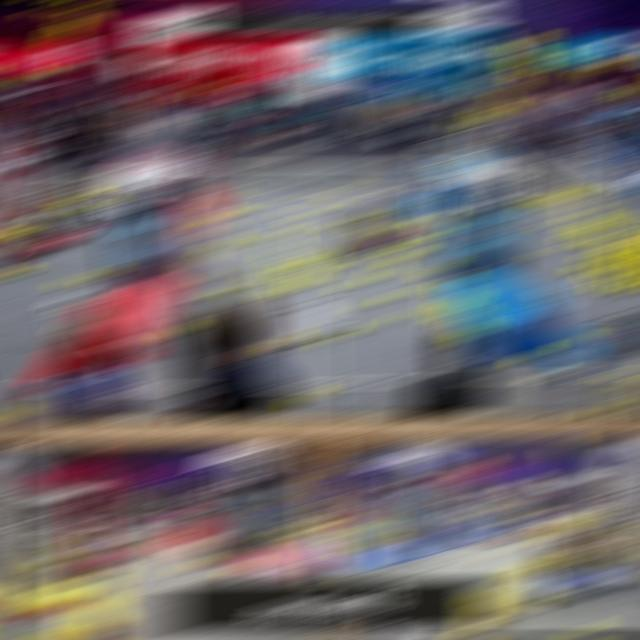ball_airborne: (549, 443, 579, 458), (539, 57, 566, 66), (456, 144, 484, 152), (591, 65, 618, 73), (462, 466, 488, 473), (50, 30, 76, 37), (485, 108, 510, 115), (62, 16, 87, 23), (619, 85, 640, 93), (498, 88, 524, 94), (518, 68, 544, 74), (22, 74, 48, 80), (472, 116, 497, 122), (69, 20, 94, 26), (53, 22, 78, 28), (478, 104, 502, 110), (8, 74, 34, 79), (72, 6, 100, 10), (28, 7, 55, 11), (456, 112, 481, 116), (47, 39, 72, 43), (52, 7, 77, 8), (478, 31, 500, 32), (62, 7, 87, 7)
ball_ground: (87, 620, 119, 638), (518, 596, 548, 612), (483, 592, 512, 607), (290, 393, 317, 404), (475, 584, 503, 594), (518, 350, 544, 360), (507, 564, 533, 574), (61, 574, 87, 584), (96, 600, 122, 610), (327, 330, 352, 340), (270, 338, 296, 347), (598, 276, 624, 285), (231, 564, 257, 573), (604, 261, 630, 270), (90, 586, 118, 594), (178, 562, 204, 570), (280, 284, 306, 292), (164, 326, 190, 334), (524, 566, 550, 574), (231, 284, 256, 292), (215, 284, 240, 292), (397, 310, 422, 318), (386, 290, 411, 298), (442, 278, 467, 286), (424, 266, 449, 274), (262, 285, 286, 293), (344, 570, 368, 578), (454, 325, 478, 333), (460, 334, 486, 341), (449, 301, 475, 308), (514, 564, 540, 571), (343, 279, 368, 286), (293, 281, 318, 288), (560, 338, 585, 345), (204, 272, 228, 279), (0, 414, 23, 421), (438, 308, 464, 314), (252, 268, 278, 274), (441, 294, 467, 300), (456, 314, 482, 320), (210, 212, 236, 218), (176, 548, 202, 554), (304, 270, 330, 276), (422, 220, 448, 226), (0, 273, 22, 280), (62, 276, 87, 282), (88, 274, 113, 280), (370, 274, 395, 280), (200, 558, 225, 564), (566, 628, 596, 633), (534, 248, 558, 254), (276, 252, 300, 258), (584, 261, 608, 267), (268, 244, 292, 250), (398, 251, 422, 257), (330, 218, 354, 224), (208, 196, 232, 202), (45, 564, 69, 570), (617, 280, 640, 286), (595, 564, 618, 570), (0, 232, 22, 238), (590, 268, 616, 273), (291, 259, 317, 264), (96, 569, 122, 574), (521, 583, 547, 588), (389, 254, 414, 259), (587, 248, 612, 253), (376, 264, 400, 269), (404, 240, 428, 245), (310, 250, 334, 255), (256, 234, 280, 239), (205, 245, 229, 250), (388, 244, 412, 249), (296, 271, 320, 276), (305, 258, 329, 263), (383, 224, 407, 229), (568, 211, 592, 216), (286, 271, 310, 276), (486, 551, 509, 556), (358, 298, 381, 303), (182, 257, 205, 262), (284, 206, 306, 211), (614, 274, 640, 278), (586, 408, 612, 412), (69, 607, 95, 611), (396, 206, 421, 210), (279, 266, 303, 270), (546, 219, 570, 223), (564, 231, 588, 235), (308, 208, 332, 212), (68, 208, 92, 212), (292, 214, 316, 218), (88, 206, 112, 210), (448, 312, 472, 316), (274, 539, 298, 543), (292, 538, 316, 542), (209, 239, 233, 243), (354, 536, 378, 540), (390, 222, 413, 226), (82, 204, 105, 208), (332, 188, 355, 192), (254, 204, 276, 208), (166, 546, 188, 550), (625, 277, 640, 282), (416, 215, 441, 218), (360, 256, 384, 259), (158, 541, 182, 544), (0, 249, 12, 255), (528, 200, 552, 203), (602, 367, 626, 370), (534, 192, 558, 195), (264, 230, 288, 233), (550, 200, 574, 203), (146, 541, 169, 544), (354, 298, 377, 301), (200, 219, 222, 222), (204, 229, 226, 232), (200, 212, 222, 215), (6, 230, 28, 233), (268, 238, 292, 240), (370, 250, 394, 252), (266, 532, 290, 534), (352, 194, 376, 196), (272, 526, 296, 528), (66, 302, 90, 304), (421, 234, 444, 236), (125, 540, 148, 542), (560, 206, 583, 208), (341, 544, 364, 546), (526, 192, 548, 194), (284, 532, 306, 534), (344, 538, 366, 540), (358, 544, 382, 545)
goal: (106, 128, 182, 161), (440, 126, 520, 156)
robot_blue: (532, 518, 615, 596), (459, 509, 512, 539), (44, 526, 90, 556)
robot_red: (10, 190, 86, 251), (336, 198, 406, 245), (83, 524, 132, 564), (490, 513, 538, 538)
